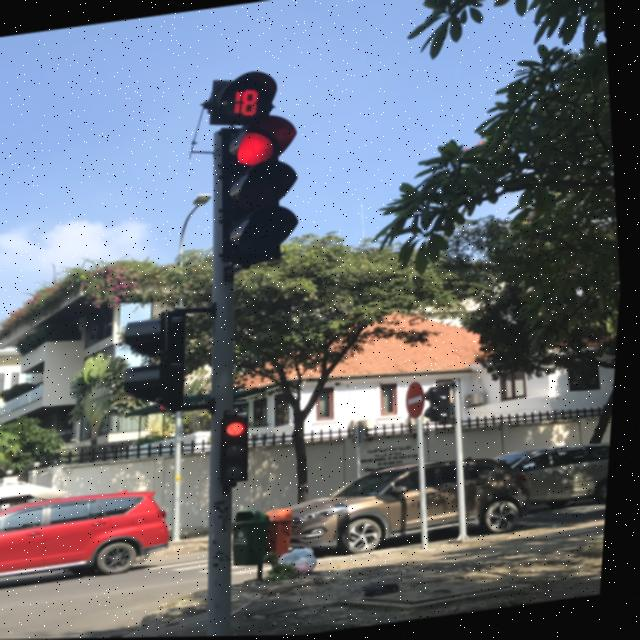Red: (205, 114, 310, 271), (218, 408, 266, 488)
